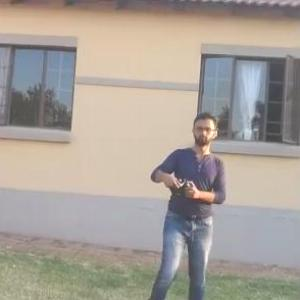follow: (143, 103, 229, 299)
